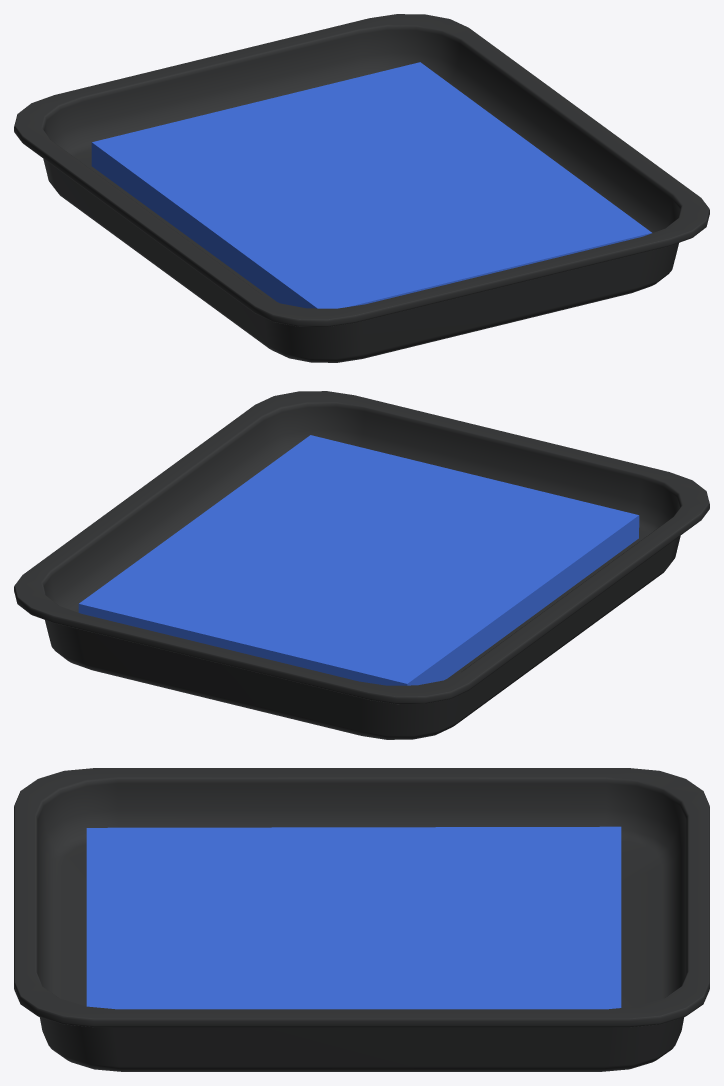
Rendered from nampan1.fbx.
3 views of the same model, one above another, from view 1: azimuth 30°, elevation 25°; view 2: azimuth 150°, elevation 25°; view 3: azimuth 270°, elevation 25° (orthographic). The views are drawn at different scales.
Parts seen in each view (by area): view 1: Cube, Tray; view 2: Cube, Tray; view 3: Tray, Cube.
Boxes of the visible parts, box(x1,y1,x2,y2) form: Cube: box(91, 62, 651, 308); Tray: box(14, 14, 709, 362); Cube: box(78, 435, 639, 685); Tray: box(14, 391, 709, 739); Tray: box(14, 768, 709, 1071); Cube: box(86, 826, 621, 1009).
Bounding box in the file's own units: 48.97 × 6.45 × 57.27.
